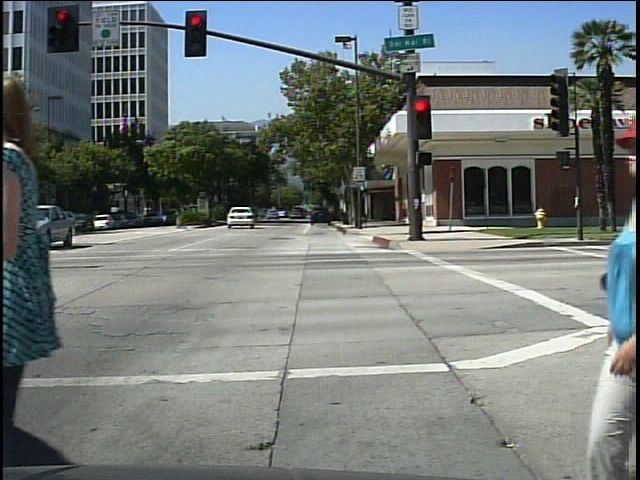person: (0, 64, 110, 467)
